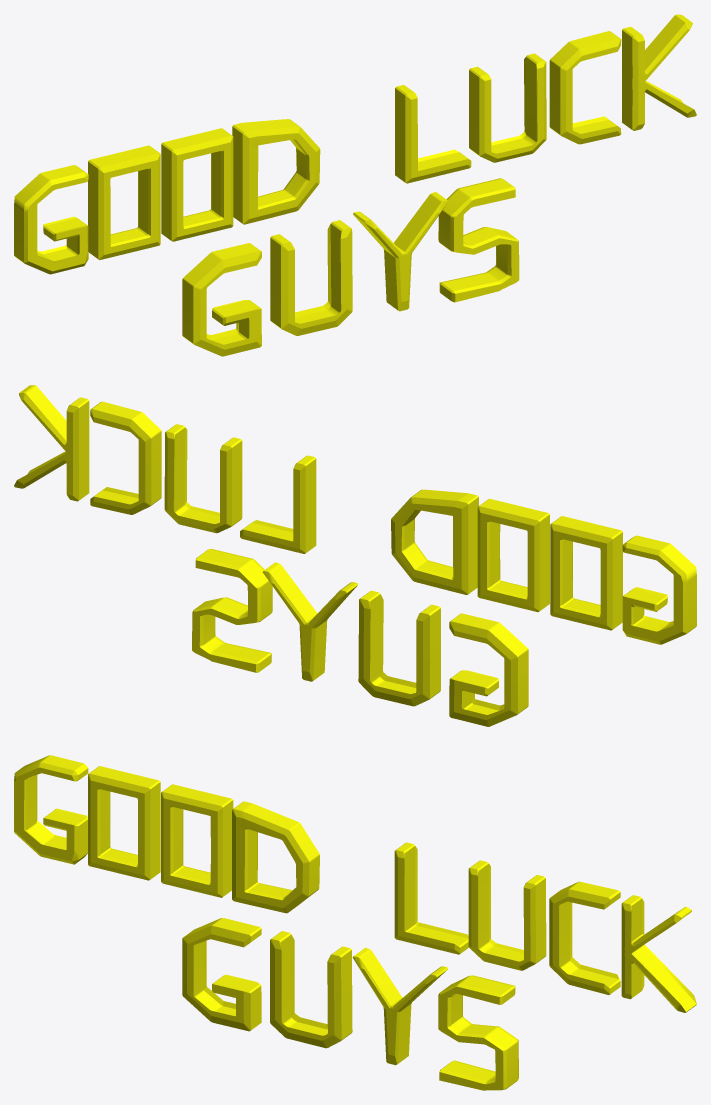
The model's file is pepTalk.obj.
3 renders of one model, top to bottom at view 1: azimuth 30°, elevation 25°; view 2: azimuth 150°, elevation 25°; view 3: azimuth 330°, elevation 25°, orthographic.
Parts seen in each view (by area): view 1: Goodluck; view 2: Goodluck; view 3: Goodluck.
Boxes of the visible parts, x1,y1,x2,y2 form: Goodluck: [14, 14, 696, 356]; Goodluck: [14, 385, 696, 726]; Goodluck: [14, 755, 696, 1090].
Bounding box in the file's own units: 96.51 × 30.52 × 3.87.
